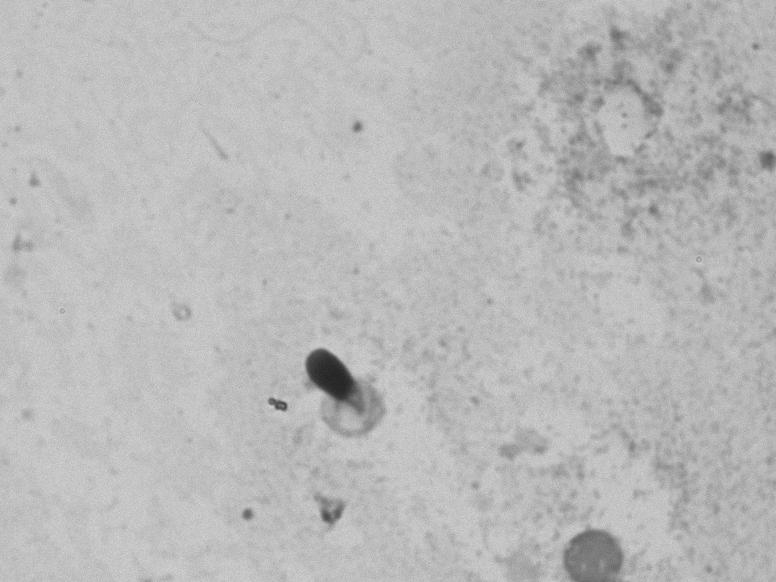Abnormal: (271, 295, 407, 471)
